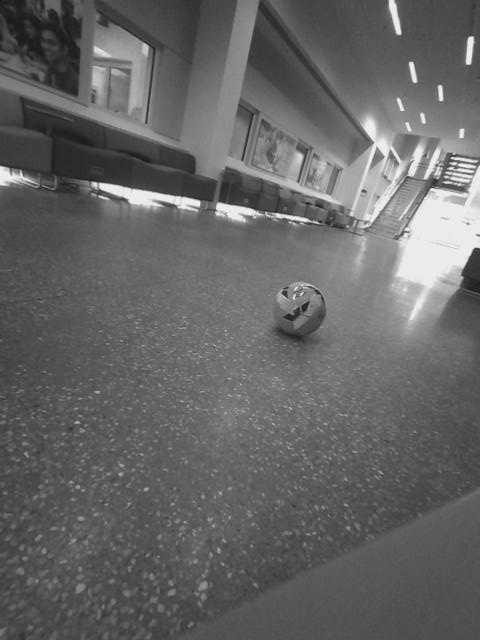ball: (296, 249, 330, 280)
